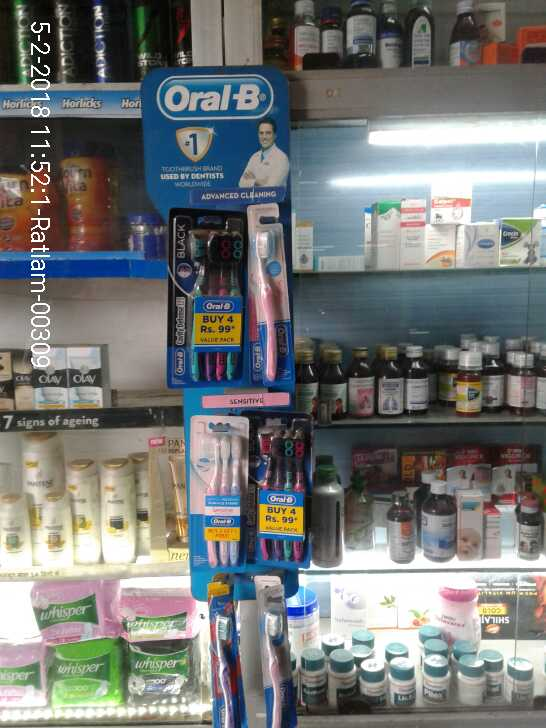beauty: (2, 431, 59, 571), (53, 455, 98, 568), (102, 462, 141, 563), (69, 340, 108, 411), (34, 345, 70, 416)
pharmacy: (171, 214, 243, 373), (241, 211, 299, 383), (188, 422, 247, 563), (23, 569, 109, 648), (108, 584, 209, 650), (259, 432, 305, 568), (42, 647, 120, 706), (127, 641, 191, 702)
